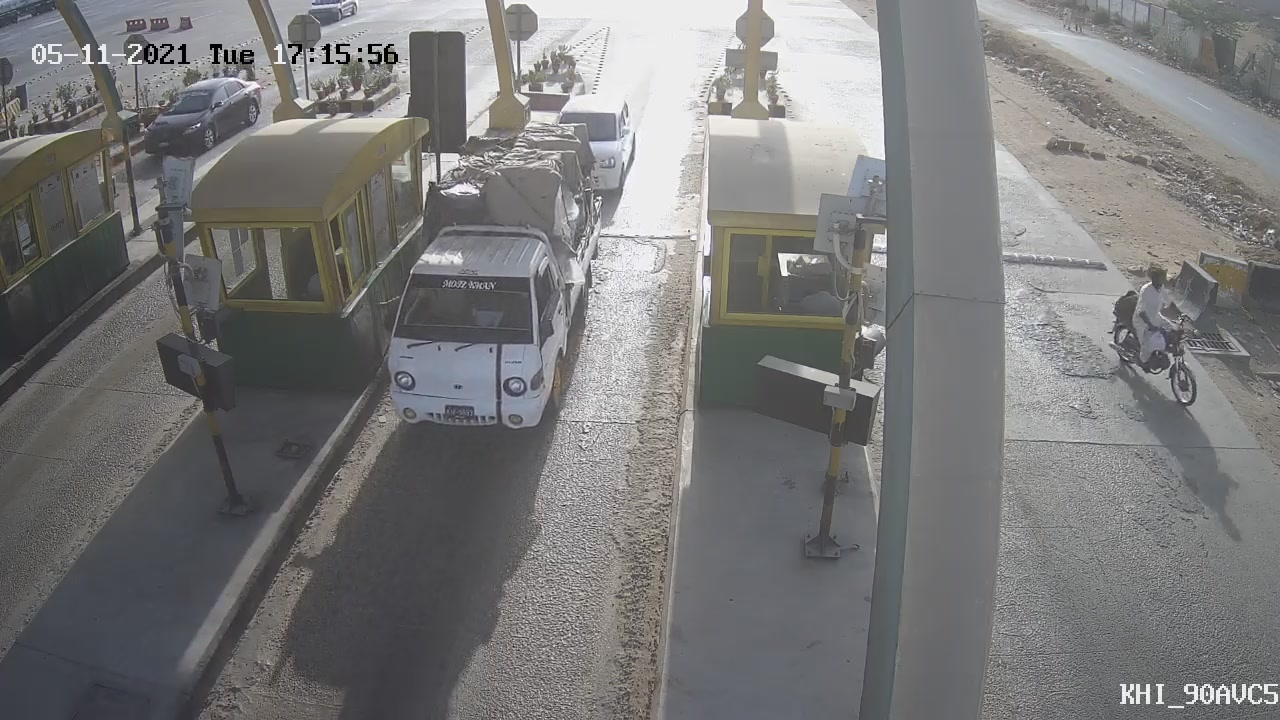F2: (355, 112, 621, 460)
